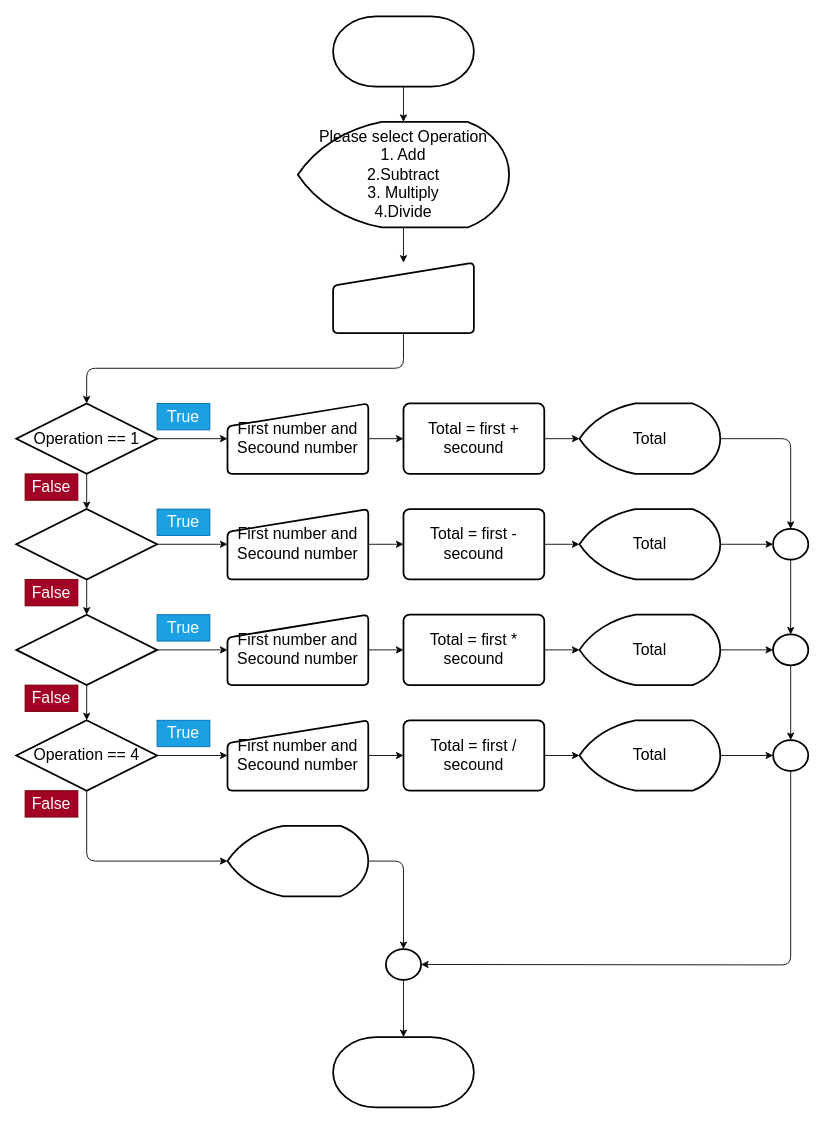
Image size: 824x1123. Some labels were removed from this diagram. The centre of each missing label's shape, as x and y in pixels:
"End" goes at (403,1072).
"Error" goes at (297,861).
"Operation" goes at (403,297).
"Operation == 2" goes at (86,544).
"Operation == 3" goes at (86,649).
"Start" goes at (403,51).
